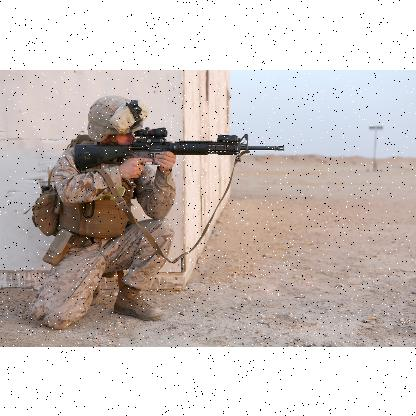gun: (74, 126, 282, 168)
